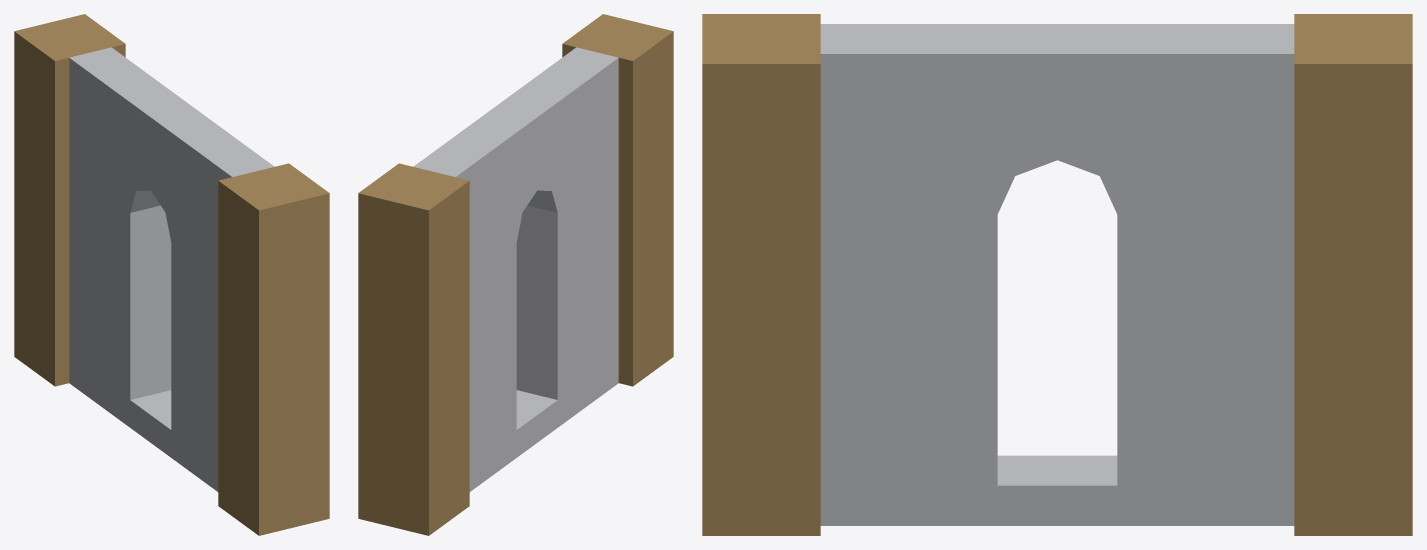
Rendered from Wood_Window_Round_Long_01.obj.
3 renders of one model, left to right at view 1: azimuth 30°, elevation 25°; view 2: azimuth 150°, elevation 25°; view 3: azimuth 270°, elevation 25°, orthographic. The views are drawn at different scales.
Visible parts, largest first — view 1: Mesh1_Wood_Window_Round_Long_Model; view 2: Mesh1_Wood_Window_Round_Long_Model; view 3: Mesh1_Wood_Window_Round_Long_Model.
Part boxes in pixels (x1=…): Mesh1_Wood_Window_Round_Long_Model: x1=14, y1=14, x2=329, y2=535; Mesh1_Wood_Window_Round_Long_Model: x1=358, y1=14, x2=673, y2=535; Mesh1_Wood_Window_Round_Long_Model: x1=702, y1=14, x2=1412, y2=535.
Bounding box in the file's own units: 0.5 × 2.2 × 3.
